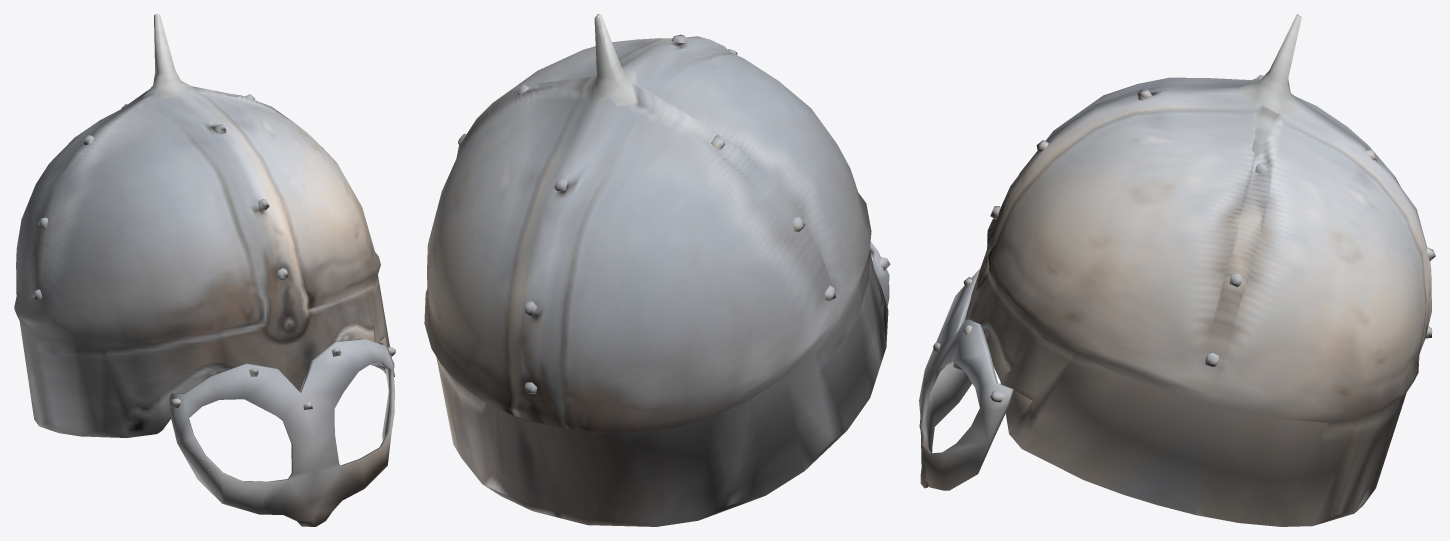
Rendered from WorldItem_VkingHelmet.fbx.
3 views of the same model, side by side, from view 1: azimuth 30°, elevation 25°; view 2: azimuth 150°, elevation 25°; view 3: azimuth 270°, elevation 25° (orthographic). The views are drawn at different scales.
Visible parts, largest first — view 1: VikingHelmet; view 2: VikingHelmet; view 3: VikingHelmet.
Boxes of the visible parts, x1=… form: VikingHelmet: x1=14, y1=14, x2=395, y2=526; VikingHelmet: x1=424, y1=14, x2=890, y2=526; VikingHelmet: x1=919, y1=14, x2=1435, y2=526.
Size of the model in its own units: 0.1406 by 0.1699 by 0.1688.
